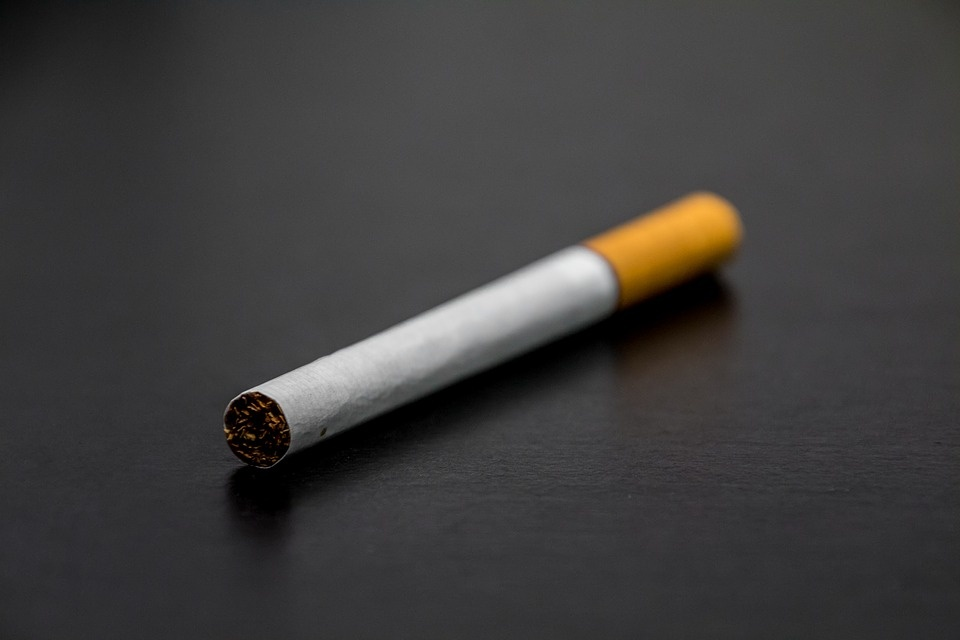sigaretta: (216, 201, 734, 454)
